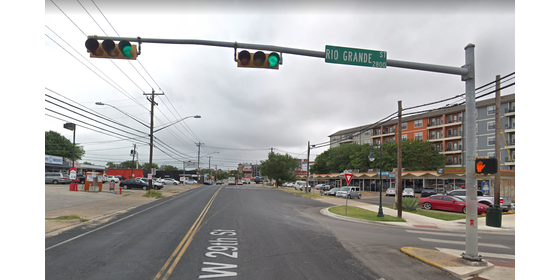street name sign: (322, 43, 390, 72)
